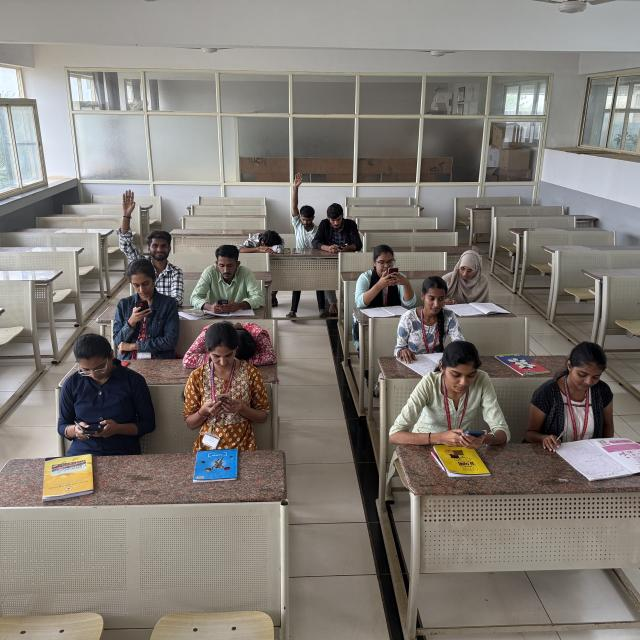Hand Rising: (106, 178, 191, 300), (285, 167, 320, 254)
Sleeping: (200, 313, 280, 375), (238, 211, 291, 258)
Using Phone: (388, 337, 517, 445), (36, 330, 154, 440), (176, 318, 265, 424), (100, 252, 182, 359), (198, 235, 270, 314), (349, 245, 419, 308), (316, 199, 378, 262)
Writing: (526, 341, 622, 461), (443, 249, 510, 317)
